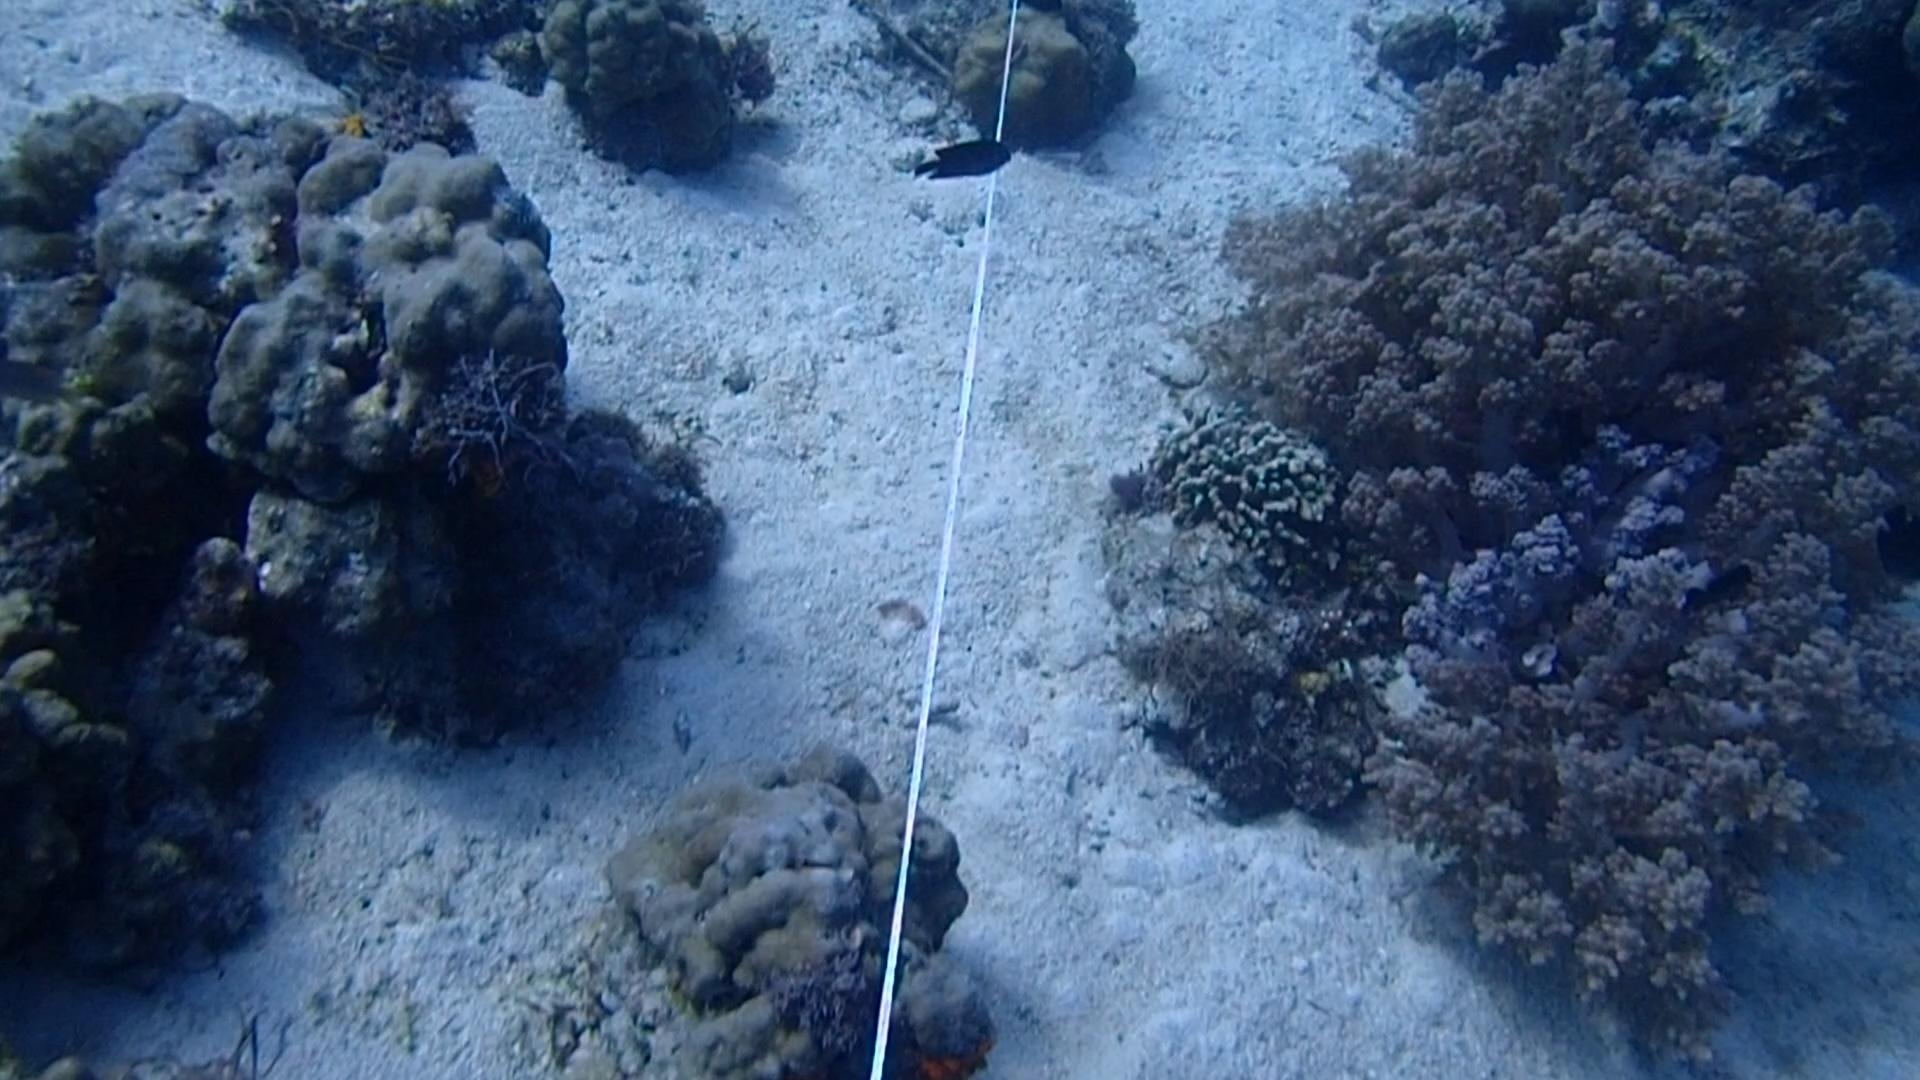Dark Fish: (913, 133, 1023, 185), (1672, 562, 1767, 621), (1867, 501, 1920, 593)
